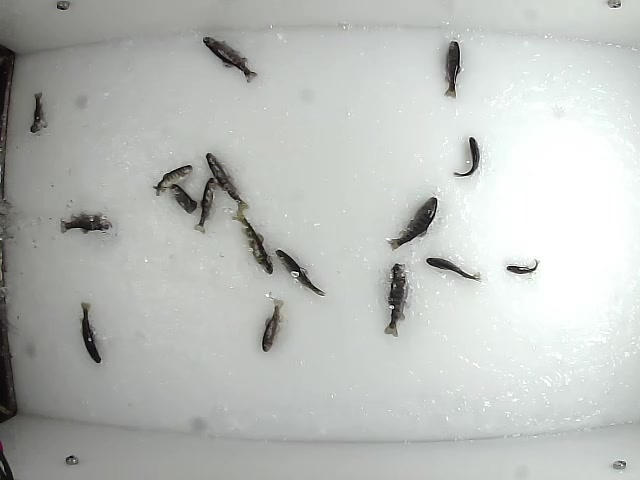fish: (385, 194, 439, 253), (230, 207, 274, 277), (204, 151, 250, 214), (201, 36, 259, 84), (275, 249, 327, 298), (381, 259, 412, 338), (77, 301, 104, 366), (259, 297, 288, 354), (423, 256, 482, 284), (191, 176, 218, 235), (152, 161, 195, 198), (450, 135, 482, 179), (57, 211, 113, 235), (441, 39, 462, 100), (27, 90, 49, 134), (169, 184, 197, 213), (504, 256, 541, 276)
